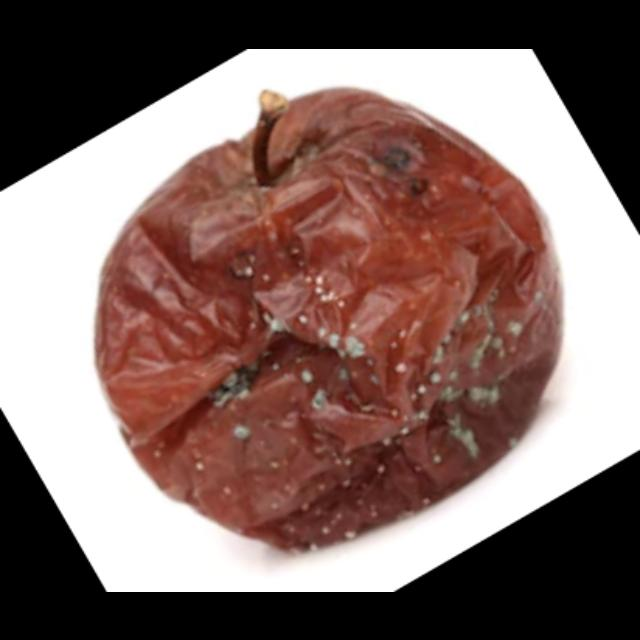Apel Tidak Segar: (105, 92, 570, 556)
